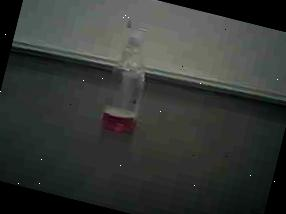hazard: (89, 13, 167, 142)
